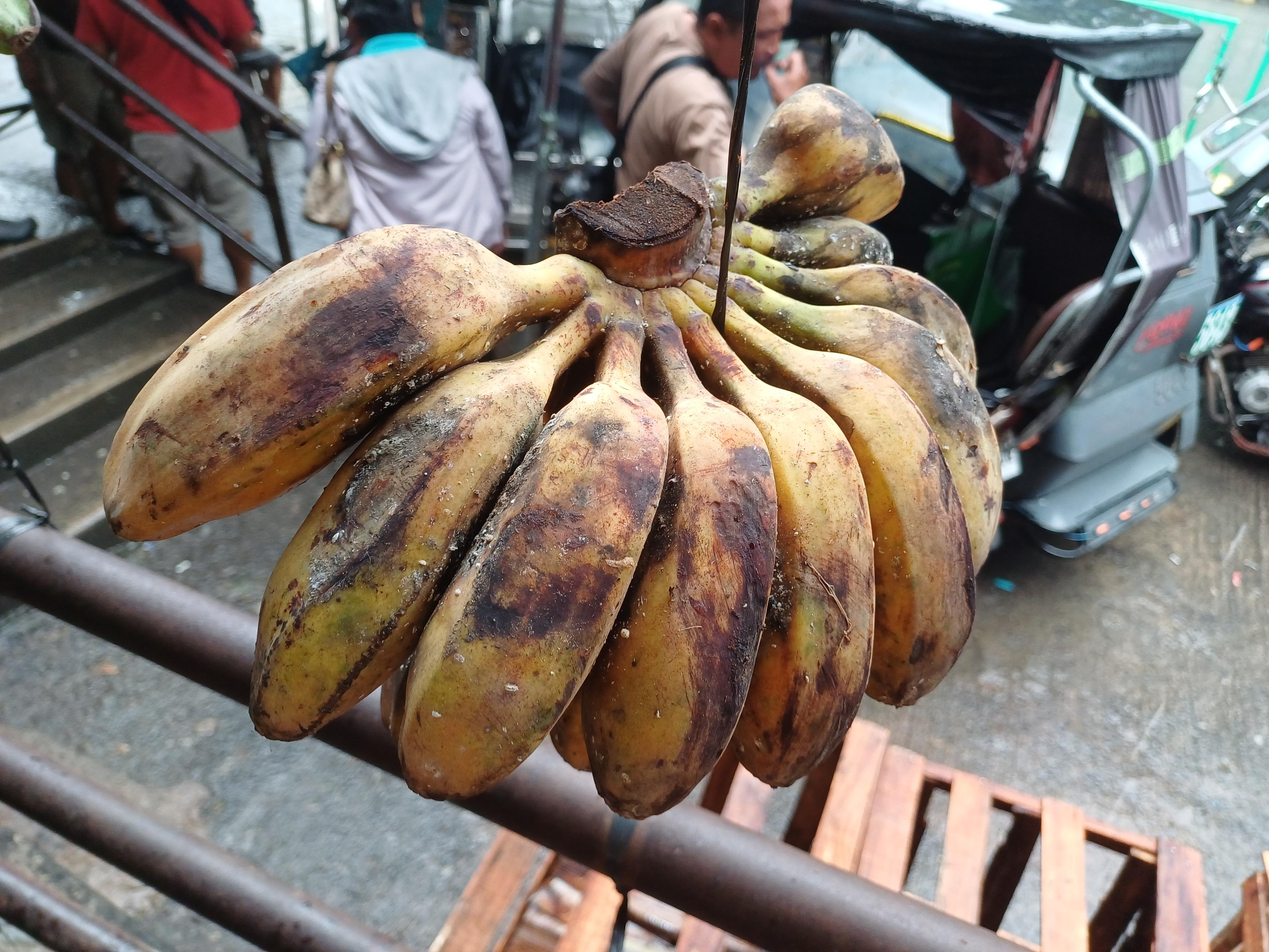ripe: (98, 83, 1004, 823)
